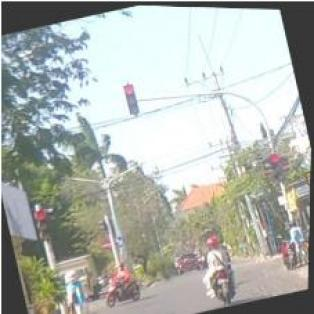Semaforo Rojo: (33, 208, 54, 242), (271, 150, 289, 182), (122, 82, 138, 112)
